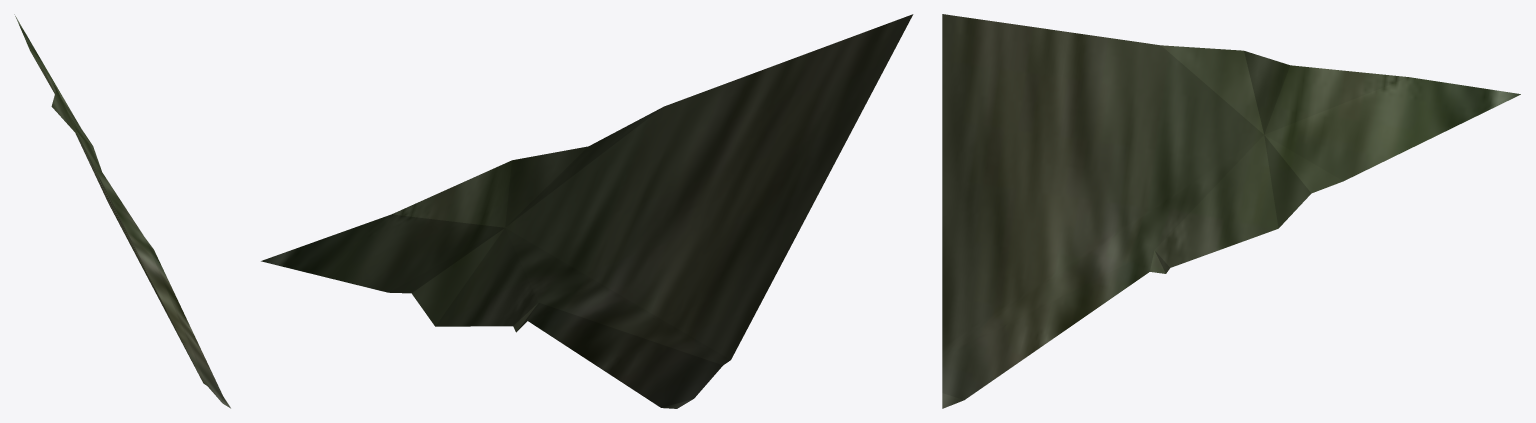
The picture shows the model from 3 angles, left to right: view 1: azimuth 30°, elevation 25°; view 2: azimuth 150°, elevation 25°; view 3: azimuth 270°, elevation 25°; orthographic projection. The views are drawn at different scales.
Bounding box in the file's own units: 0.5991 × 1.1 × 1.83.
1 material, 1 textured.
